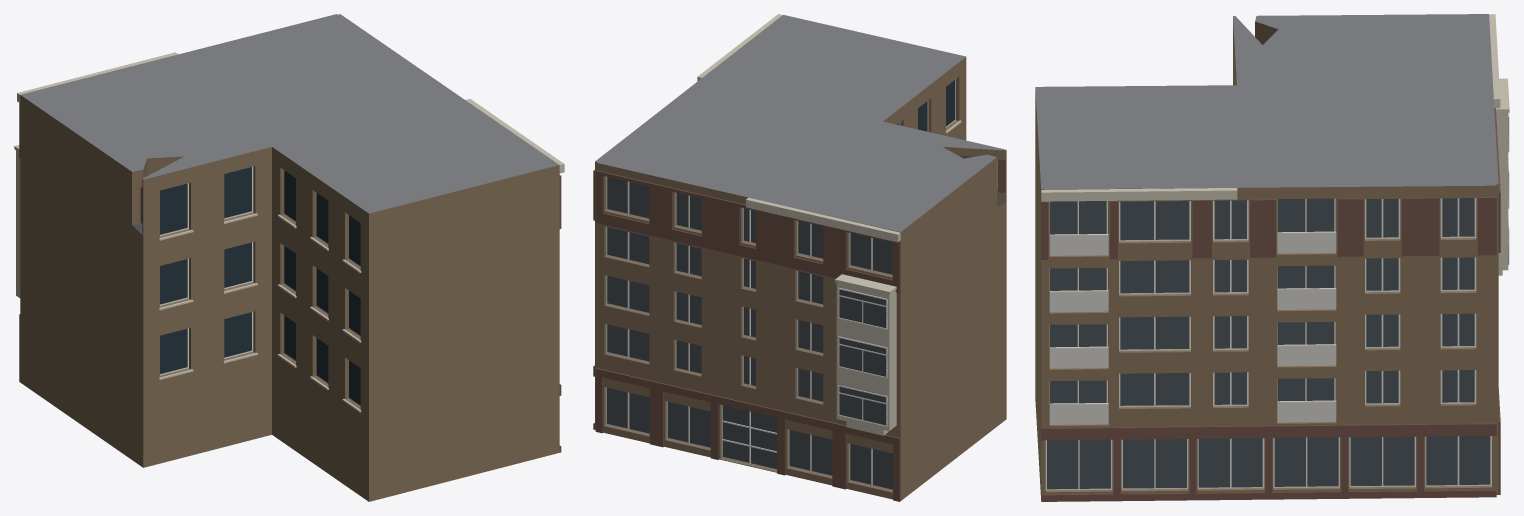
Rendered from recipe-large-haarlemmerweg-91-091729.glb.
The picture shows the model from 3 angles, left to right: view 1: azimuth 30°, elevation 25°; view 2: azimuth 150°, elevation 25°; view 3: azimuth 270°, elevation 25°; orthographic projection. The views are drawn at different scales.
Visible parts, largest first — view 1: haarlemmerweg-91-091729; view 2: haarlemmerweg-91-091729; view 3: haarlemmerweg-91-091729.
Part boxes in pixels (box(x1,y1,x2,y2)): haarlemmerweg-91-091729: box(14, 14, 564, 501); haarlemmerweg-91-091729: box(593, 14, 1006, 501); haarlemmerweg-91-091729: box(1035, 14, 1509, 501).
Bounding box in the file's own units: 18.26 × 14.9 × 20.52.
